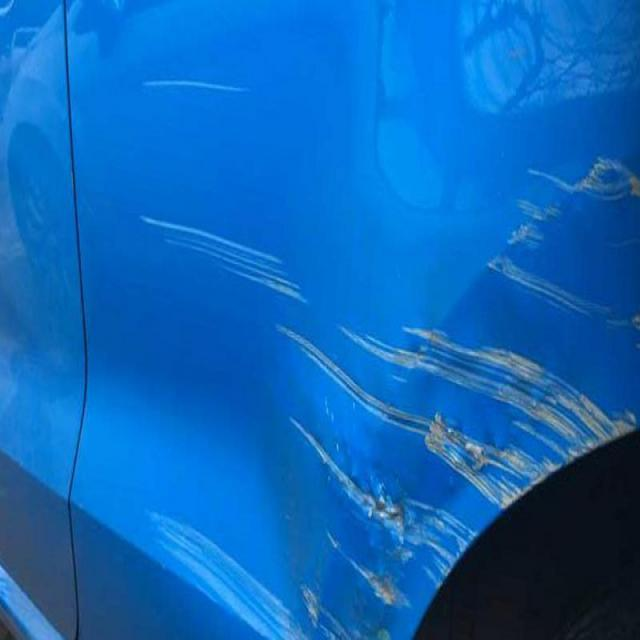scratch: (141, 145, 636, 640), (129, 208, 313, 312), (134, 65, 249, 119)
